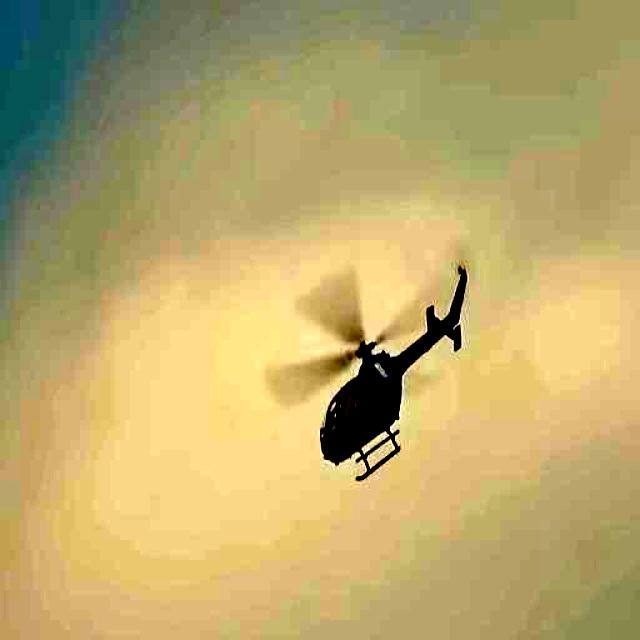drone: (304, 261, 478, 488)
